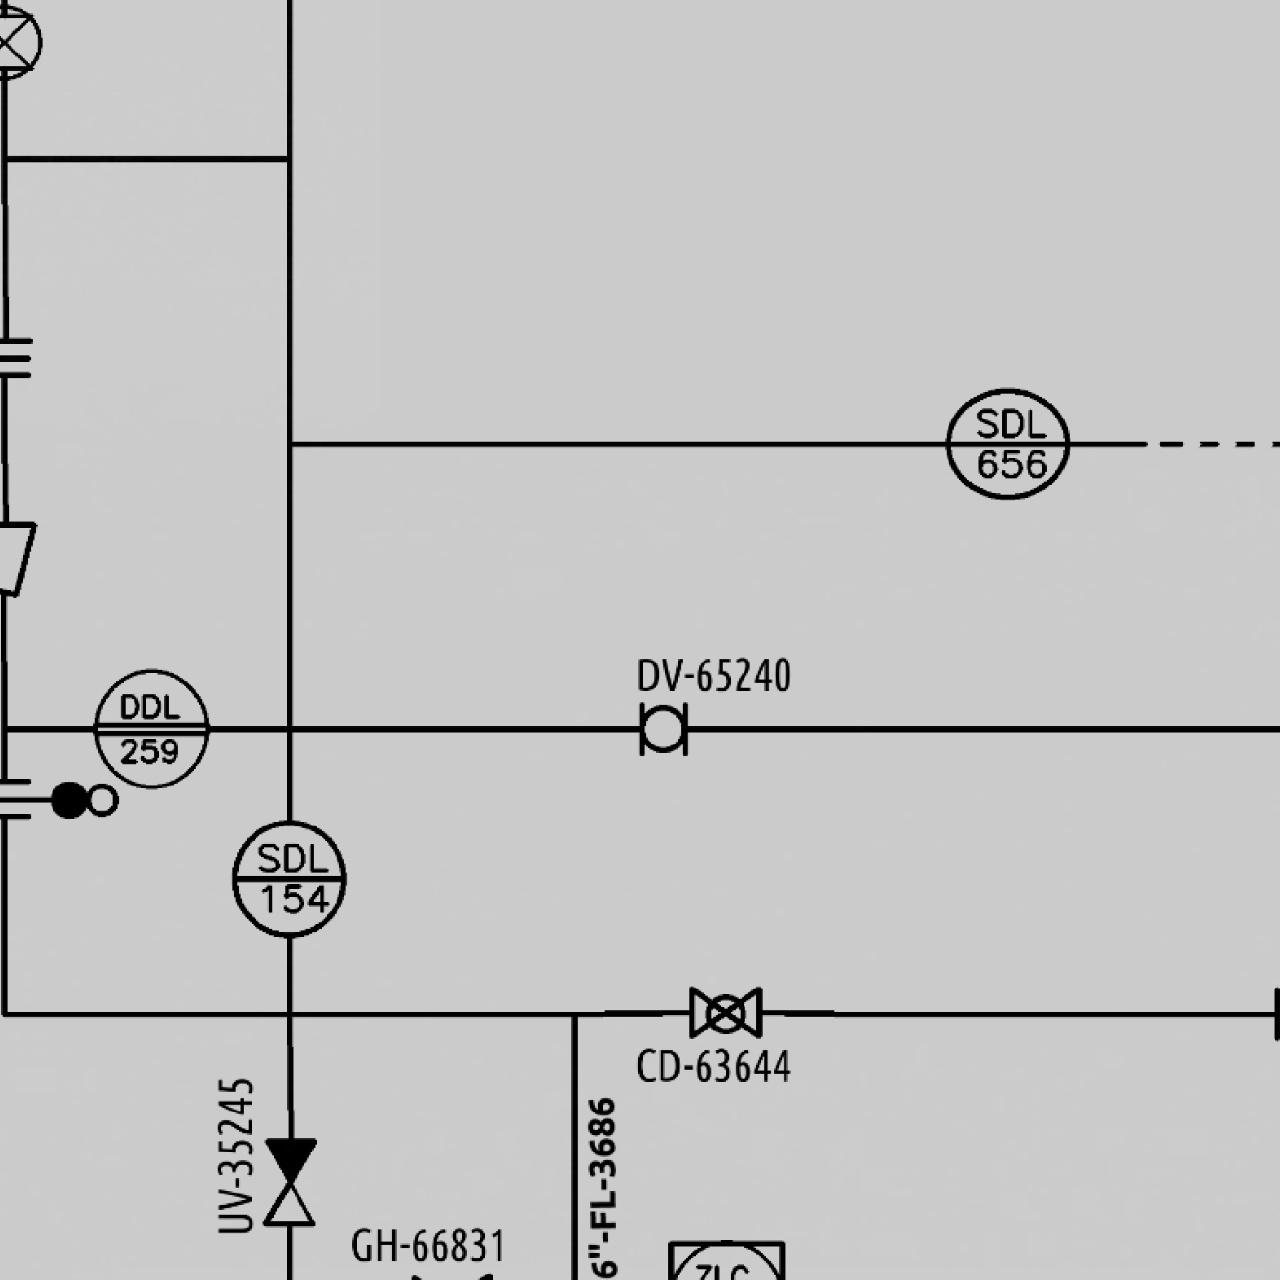Control-Panel: (86, 663, 215, 792)
Half closed valve: (258, 1133, 320, 1228)
